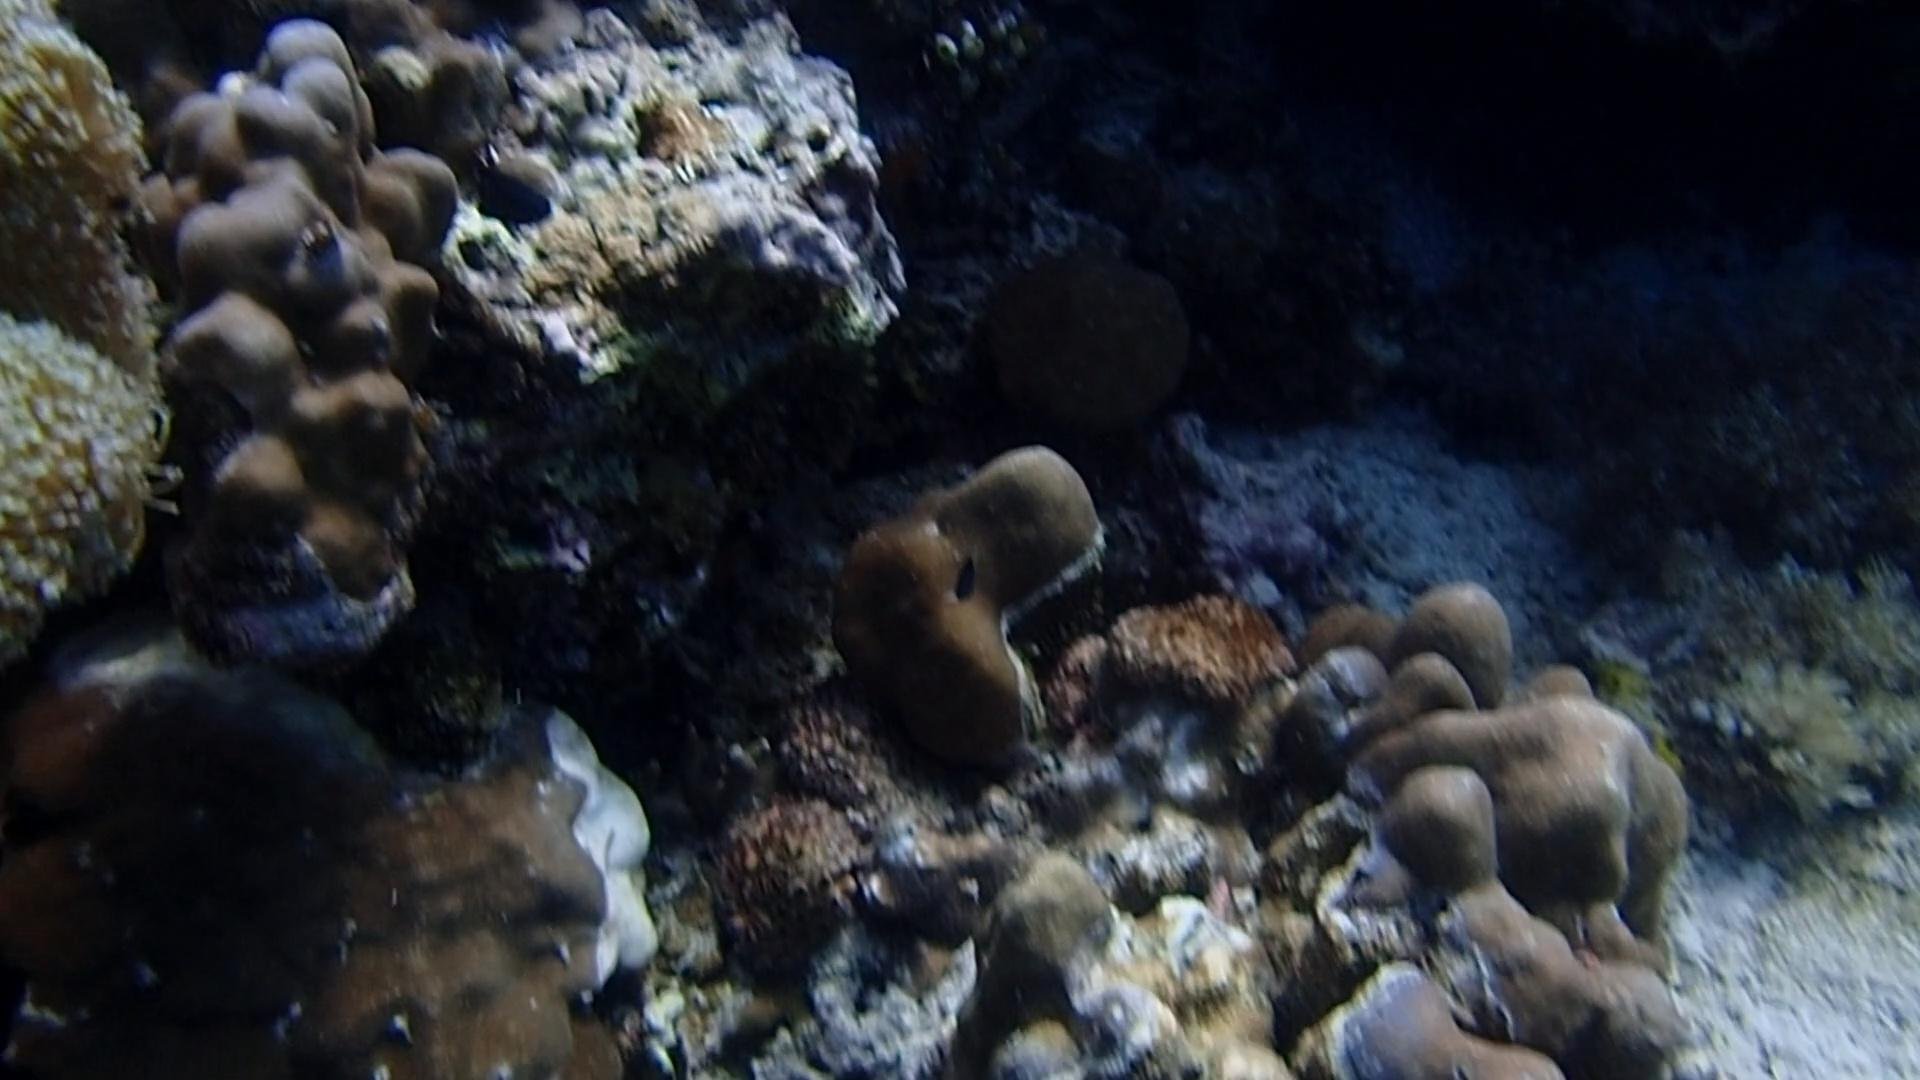Dark Fish: (452, 132, 551, 244)
Yellow Tail: (947, 538, 1010, 624)
